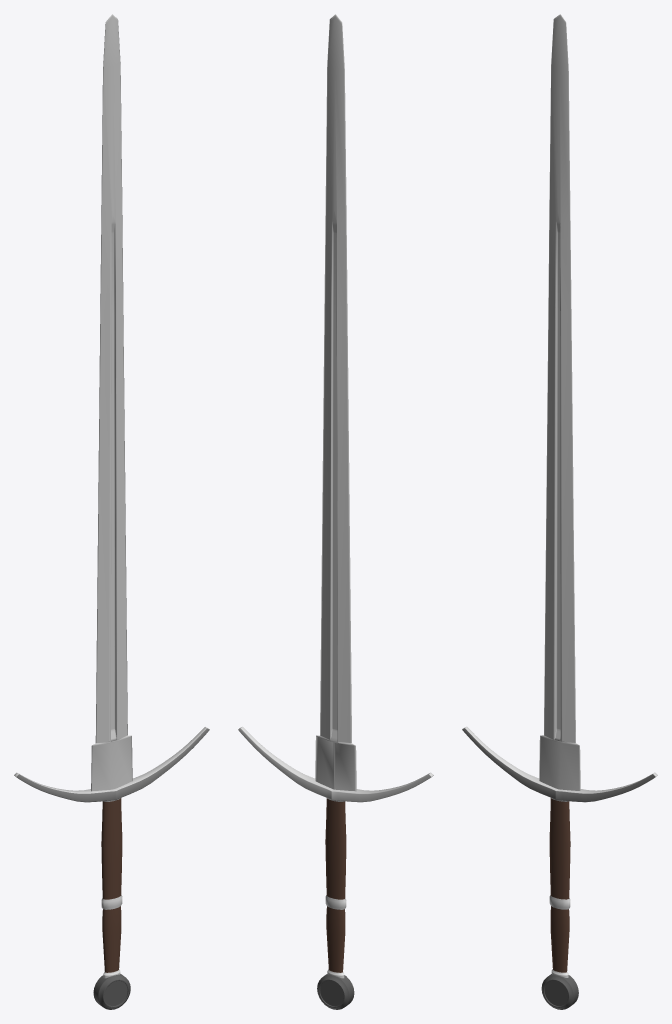
The model's file is BastardSword.fbx.
The picture shows the model from 3 angles, left to right: view 1: azimuth 30°, elevation 25°; view 2: azimuth 150°, elevation 25°; view 3: azimuth 330°, elevation 25°; orthographic projection.
Visible parts, largest first — view 1: BastardSword_LOD0; view 2: BastardSword_LOD0; view 3: BastardSword_LOD0.
Boxes of the visible parts, <box> form: BastardSword_LOD0: <box>14,14,209,1009</box>; BastardSword_LOD0: <box>238,14,433,1009</box>; BastardSword_LOD0: <box>462,14,657,1009</box>.
Size of what is drawn, in the model's own units: 133 by 650 by 10.34.
